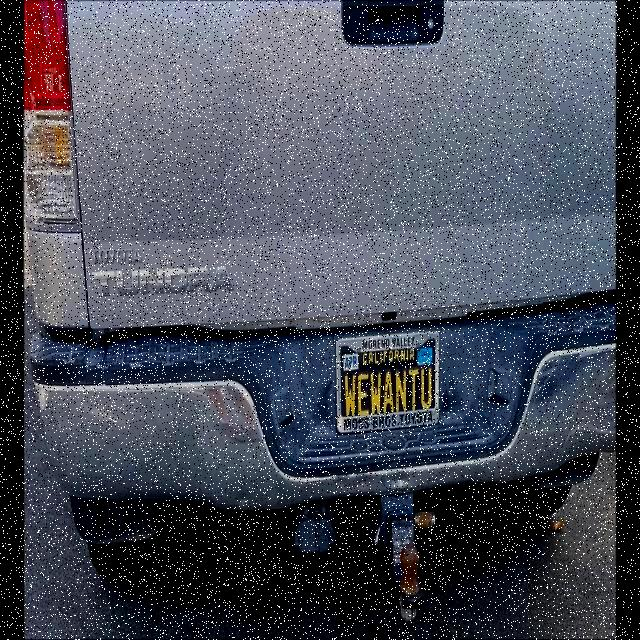licenseplate: (334, 332, 441, 433)
